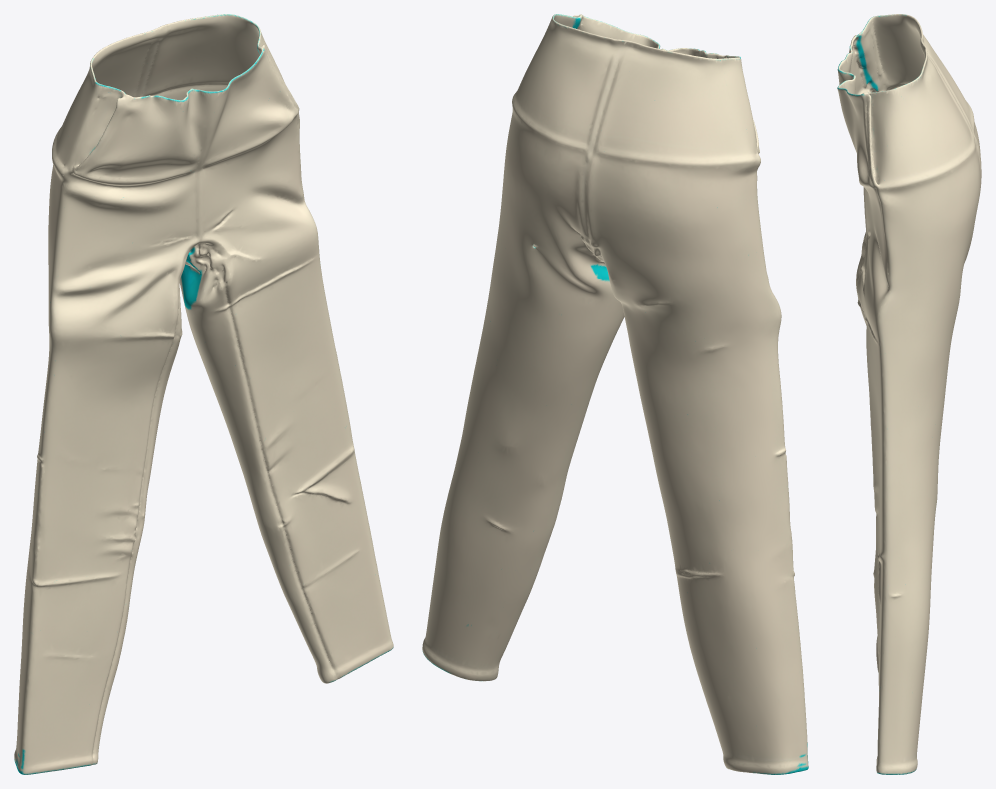
Rendered from ivory_leggings.glb.
The picture shows the model from 3 angles, left to right: view 1: azimuth 30°, elevation 25°; view 2: azimuth 150°, elevation 25°; view 3: azimuth 270°, elevation 25°; orthographic projection. The views are drawn at different scales.
Size of the model in its own units: 1.06 by 1.9 by 0.3679.
Materials: 1 (1 with a texture image).
